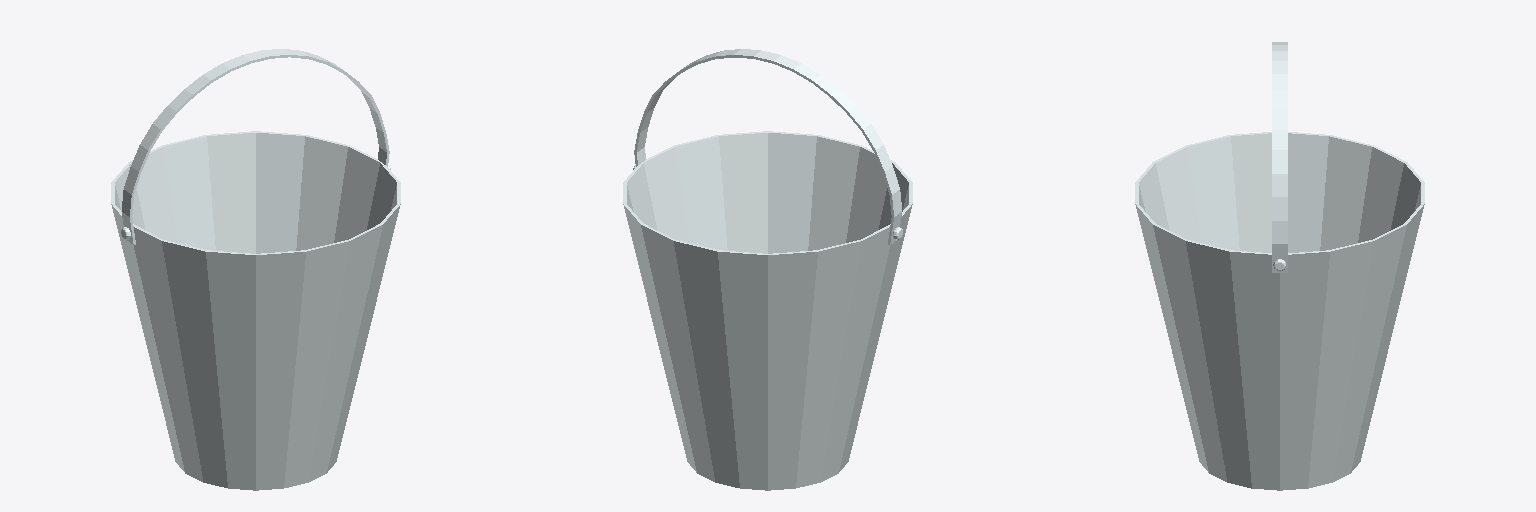
File: bucket.obj
3 renders of one model, left to right at view 1: azimuth 30°, elevation 25°; view 2: azimuth 150°, elevation 25°; view 3: azimuth 270°, elevation 25°, orthographic.
Parts seen in each view (by area): view 1: ac00304; view 2: ac00304; view 3: ac00304.
Part boxes in pixels (left/top/right/bottom): ac00304: left=111, top=49, right=400, bottom=490; ac00304: left=623, top=49, right=912, bottom=490; ac00304: left=1135, top=42, right=1424, bottom=490.
Bounding box in the file's own units: 374 × 540 × 354.